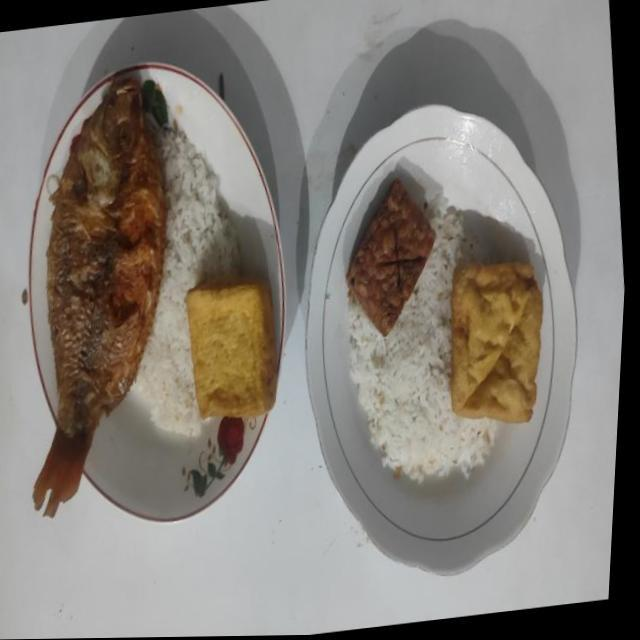ikan_mujair: (34, 78, 166, 516)
nasi_putih: (348, 193, 498, 482), (134, 124, 239, 436)
tahu_goreng: (450, 262, 542, 423), (185, 276, 278, 418)
tempe_goreng: (346, 180, 436, 336)
